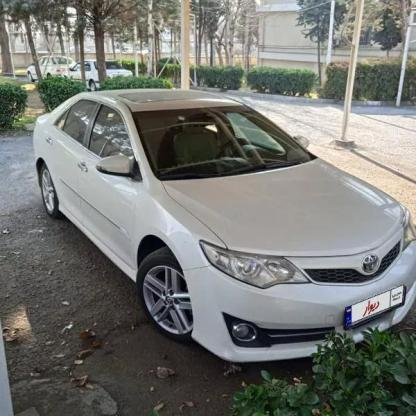Car: (29, 83, 416, 373), (59, 40, 131, 106), (22, 48, 70, 102)
